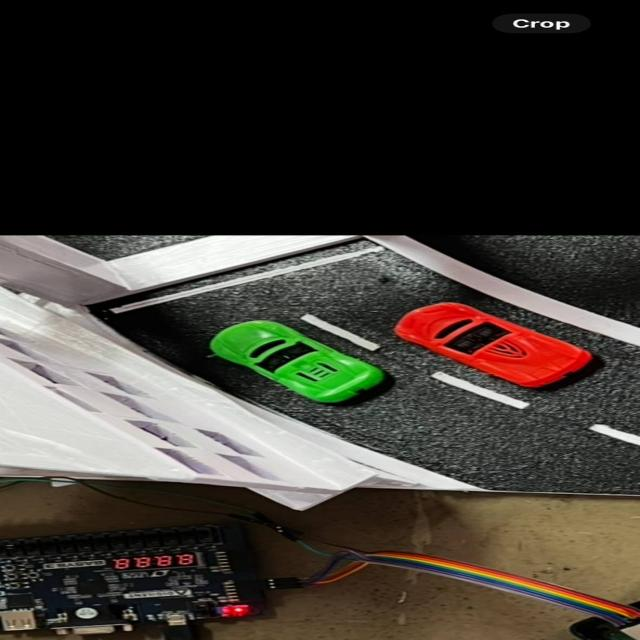car: (386, 294, 606, 414), (174, 314, 394, 412)
